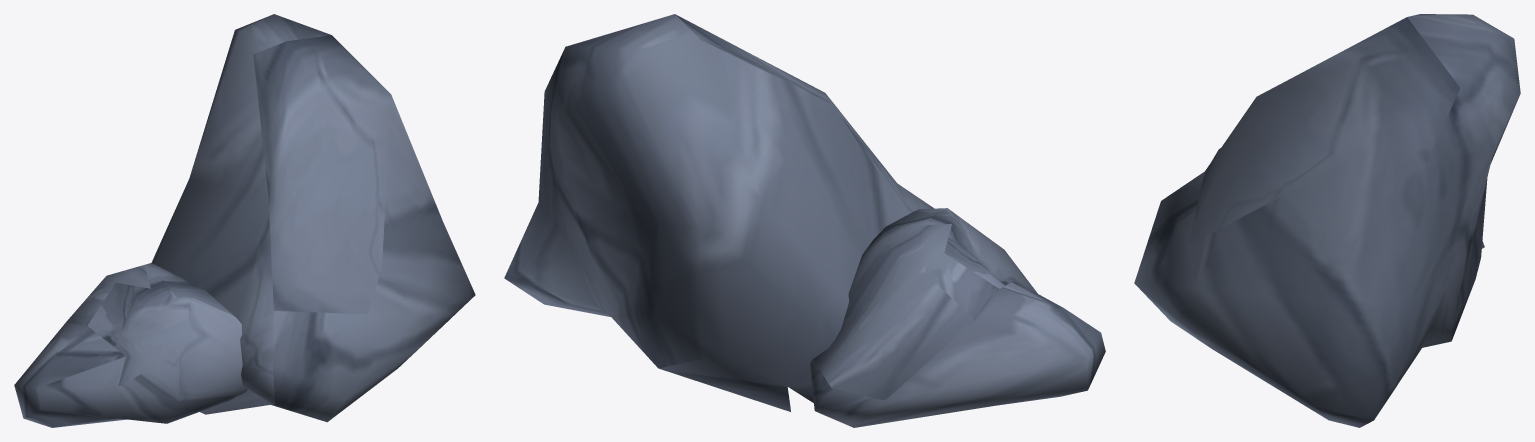
Rendered from PedraAraucarea.fbx.
3 renders of one model, left to right at view 1: azimuth 30°, elevation 25°; view 2: azimuth 150°, elevation 25°; view 3: azimuth 270°, elevation 25°, orthographic. The views are drawn at different scales.
Parts seen in each view (by area): view 1: PedraArauxarea; view 2: PedraArauxarea; view 3: PedraArauxarea.
Boxes of the visible parts, bbox=[...] form: PedraArauxarea: bbox=[14, 14, 475, 427]; PedraArauxarea: bbox=[504, 14, 1105, 427]; PedraArauxarea: bbox=[1134, 14, 1520, 427].
Bounding box in the file's own units: 125 × 80.92 × 77.05.
